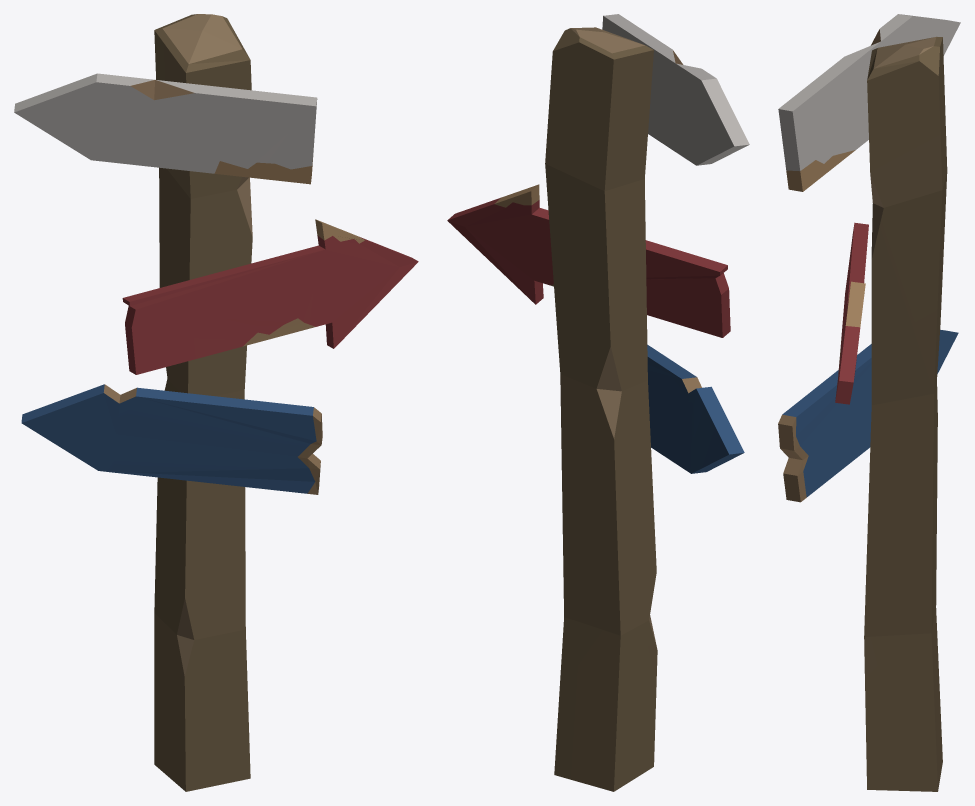
The model's file is adventure_SM_Prop_RoadSign_01.gltf.
3 renders of one model, left to right at view 1: azimuth 30°, elevation 25°; view 2: azimuth 150°, elevation 25°; view 3: azimuth 270°, elevation 25°, orthographic.
Parts seen in each view (by area): view 1: SM_Prop_RoadSign_01; view 2: SM_Prop_RoadSign_01; view 3: SM_Prop_RoadSign_01.
Boxes of the visible parts, box(x1,y1,x2,y2) form: SM_Prop_RoadSign_01: box(14, 14, 418, 791); SM_Prop_RoadSign_01: box(447, 14, 749, 791); SM_Prop_RoadSign_01: box(778, 14, 960, 791).
Size of the model in its own units: 1.16 by 2.35 by 0.5299.
1 material, 1 textured.
